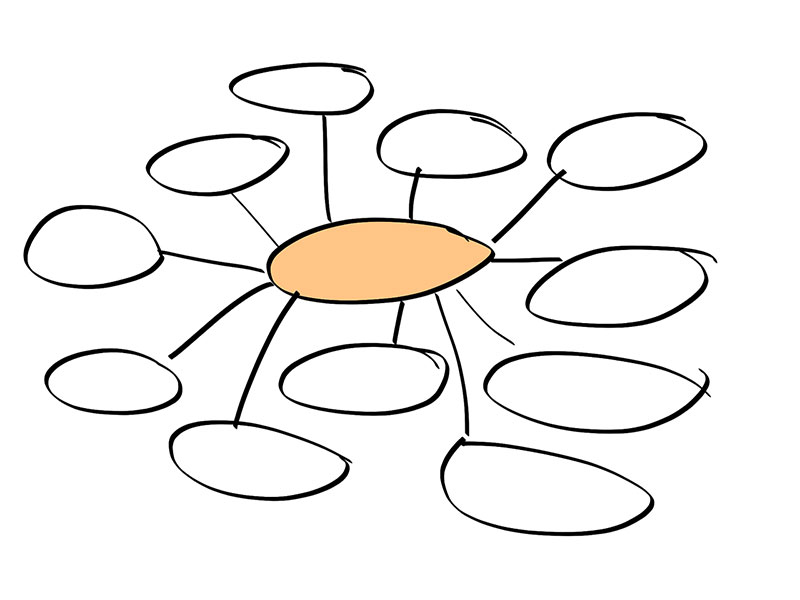circle: (438, 437, 659, 537), (265, 216, 499, 307), (481, 349, 712, 434), (521, 243, 717, 330), (166, 417, 353, 504), (545, 109, 709, 194), (275, 340, 452, 416), (22, 204, 166, 291), (374, 107, 530, 181), (42, 346, 184, 417), (144, 132, 291, 199), (226, 62, 376, 120)
line: (227, 288, 304, 432), (166, 275, 276, 363), (489, 166, 570, 245), (432, 291, 475, 437), (453, 286, 518, 348), (158, 245, 265, 277), (228, 190, 283, 250), (317, 112, 337, 224), (405, 165, 426, 224), (387, 299, 411, 345), (488, 253, 568, 266)
